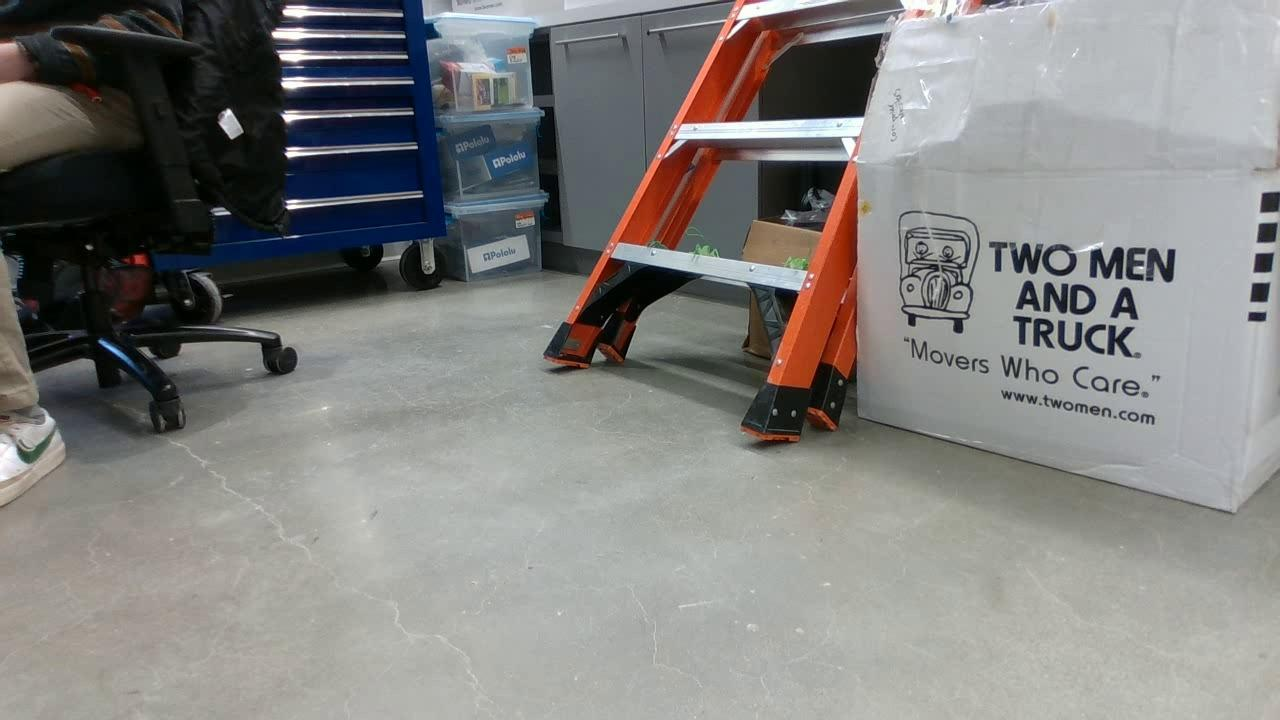grasshopper: (779, 253, 809, 271), (686, 241, 721, 256)
